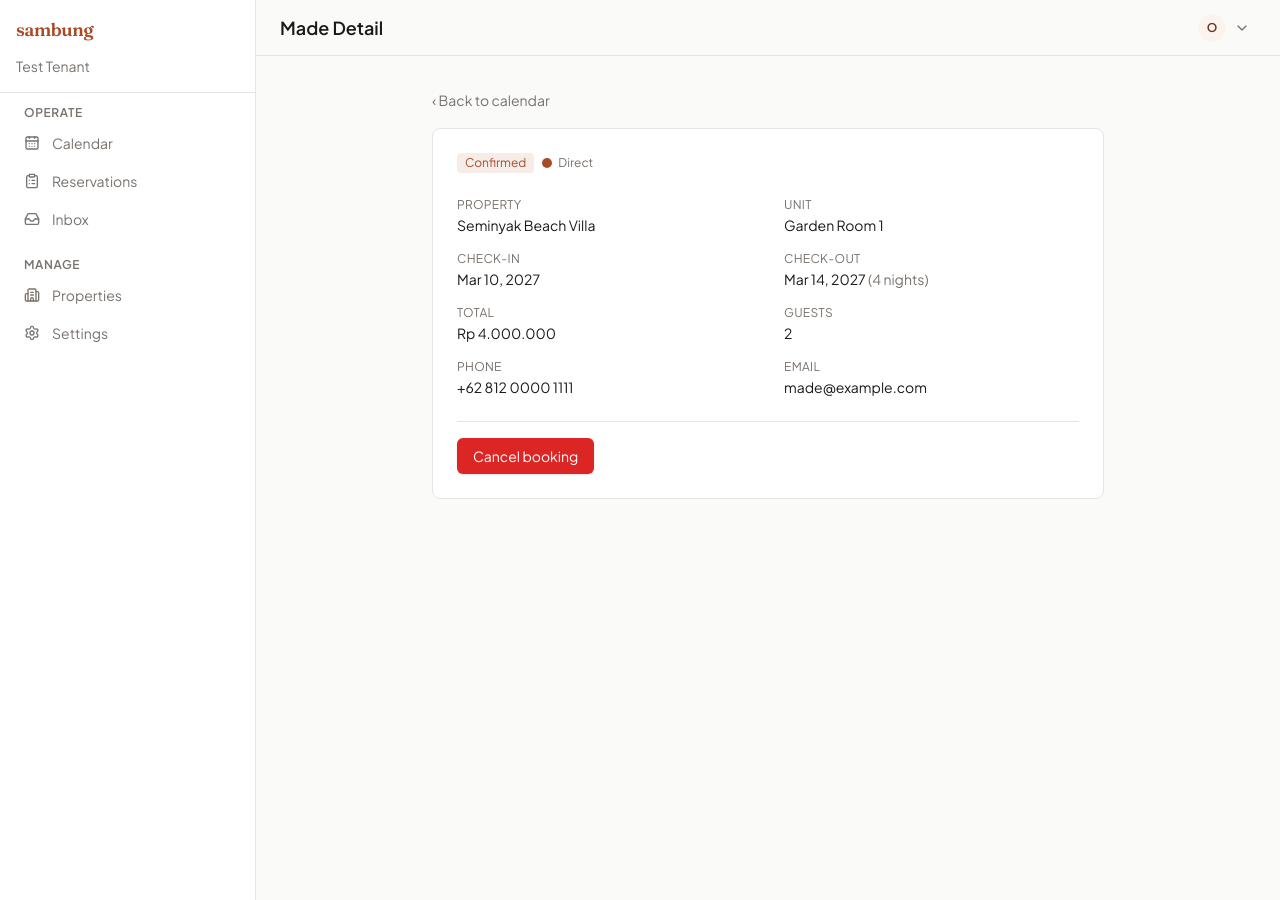
Test case: booking detail page (#50) › cancels a confirmed booking through the confirm dialog (#50)
Note: Open the confirm dialog, then confirm.
Click the button "Cancel booking".
click(526, 456)  # box [457, 438, 594, 474]
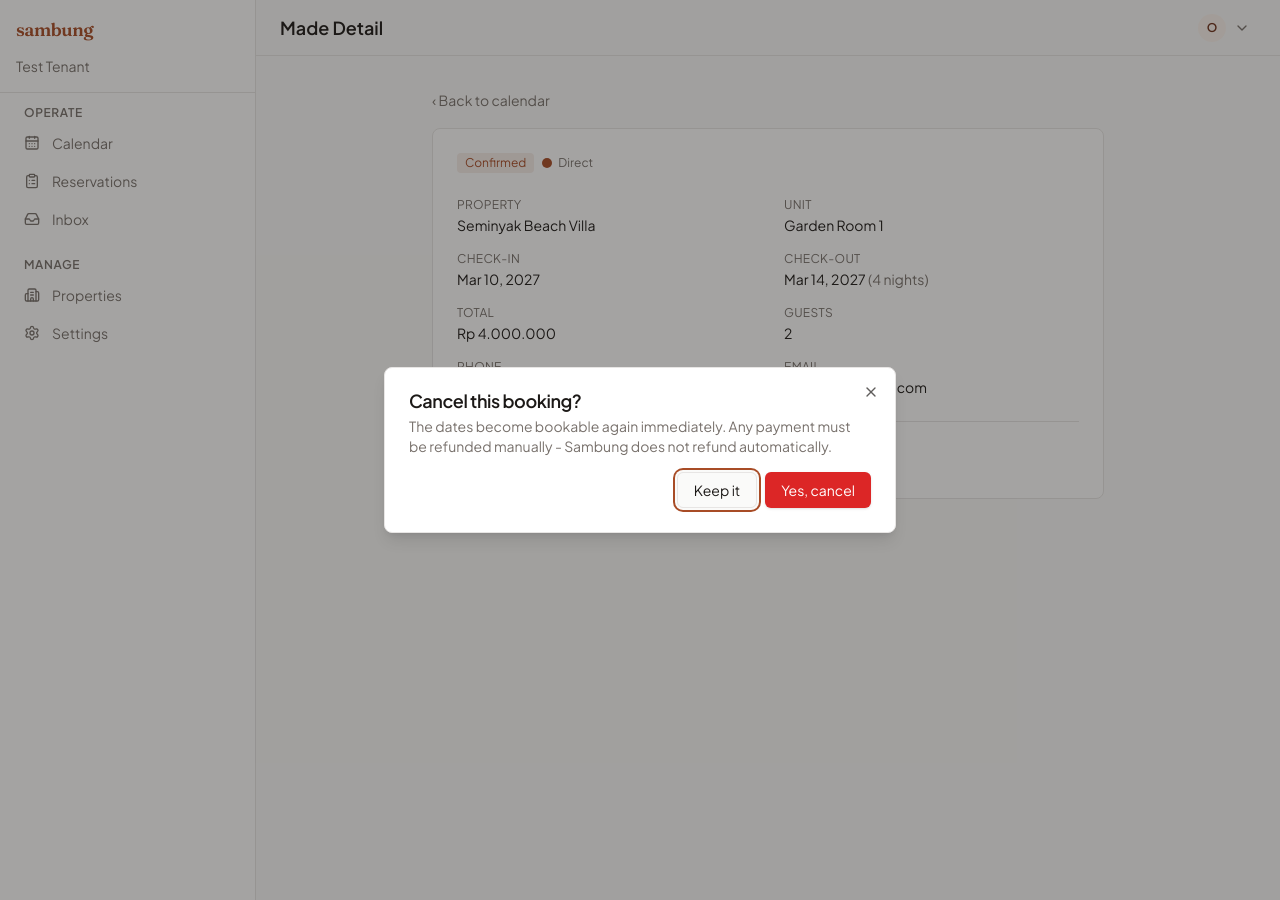
Click the button "Yes, cancel".
click(818, 490)  # box [765, 472, 871, 508]
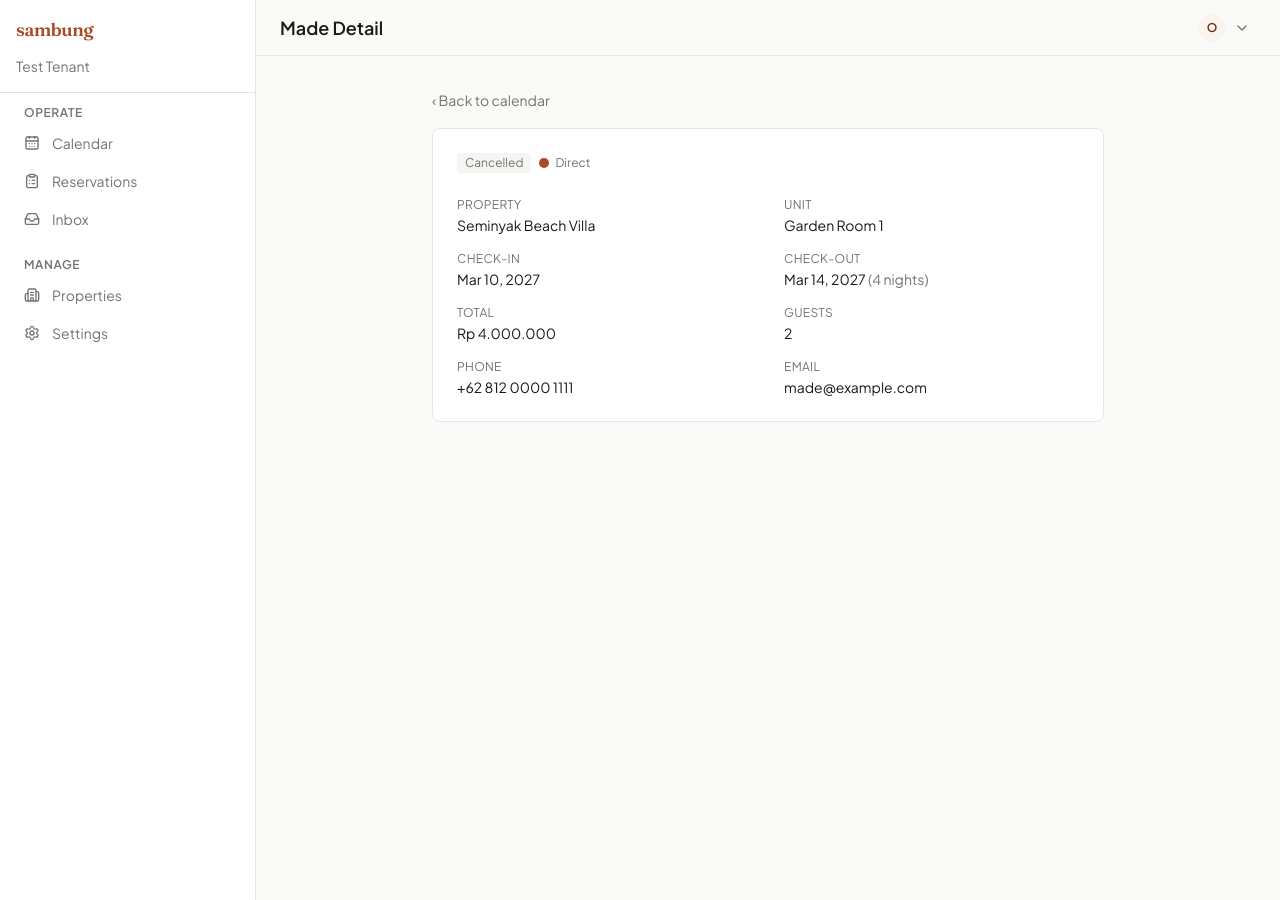
Check: the text "Cancelled" is shown, box [457, 153, 532, 173]
Check: the button "Cancel booking" is gone
